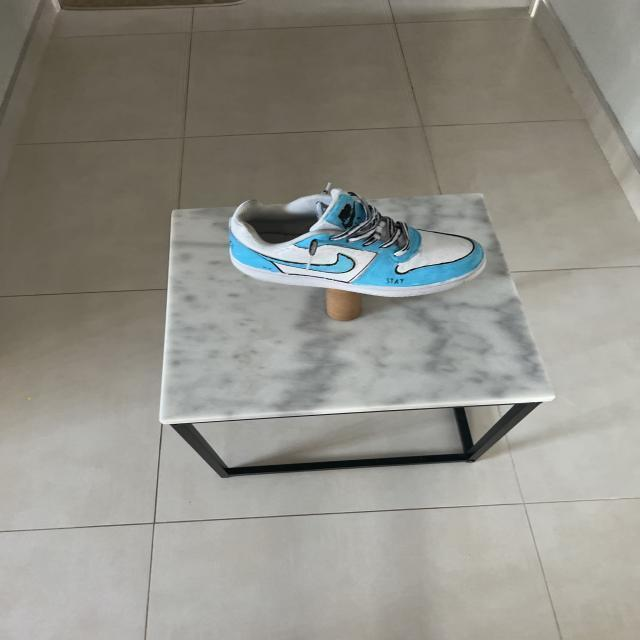shoes: (224, 185, 489, 300)
